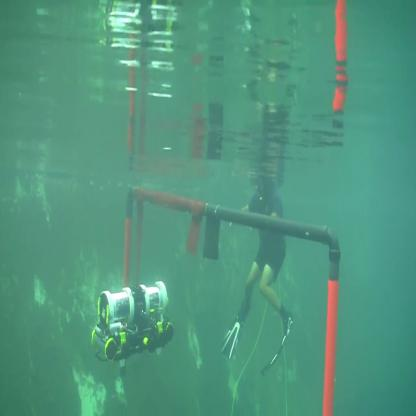gate: (117, 179, 345, 416)
